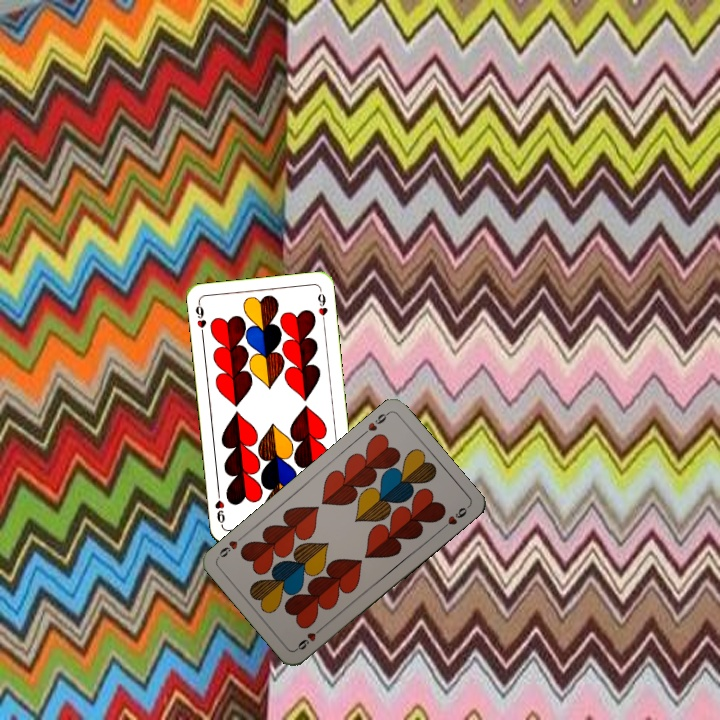H9: (292, 623, 326, 653), (191, 298, 209, 339), (364, 408, 391, 434)
